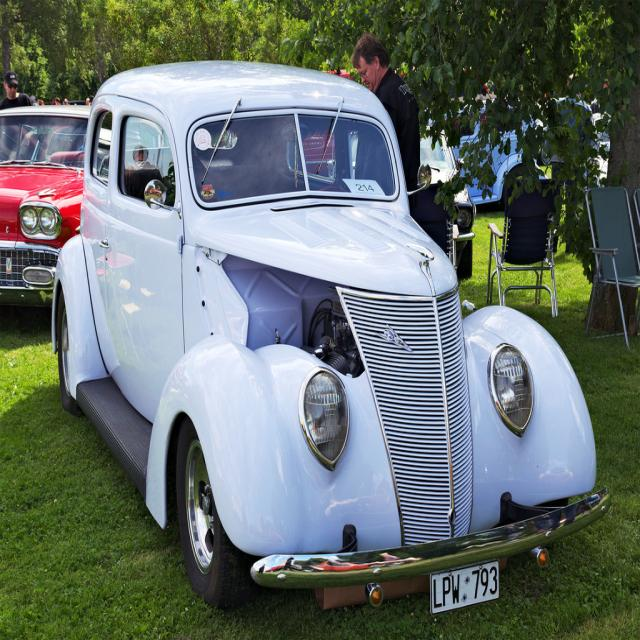car: (57, 72, 601, 626)
